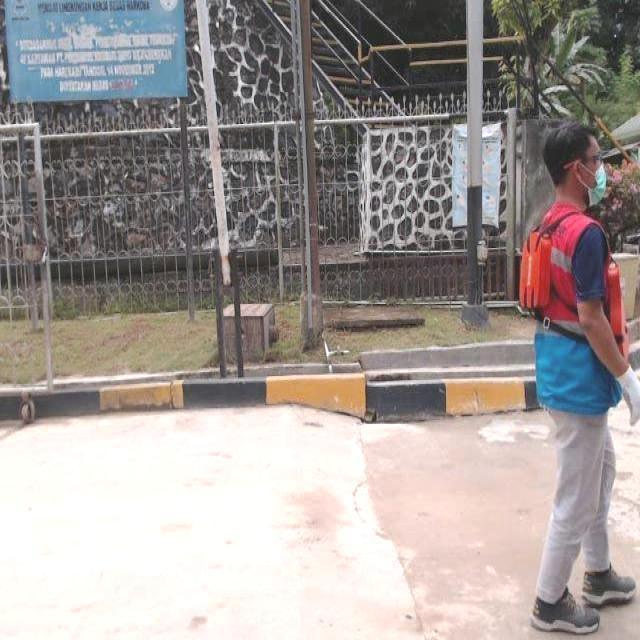vest: (518, 203, 630, 417)
